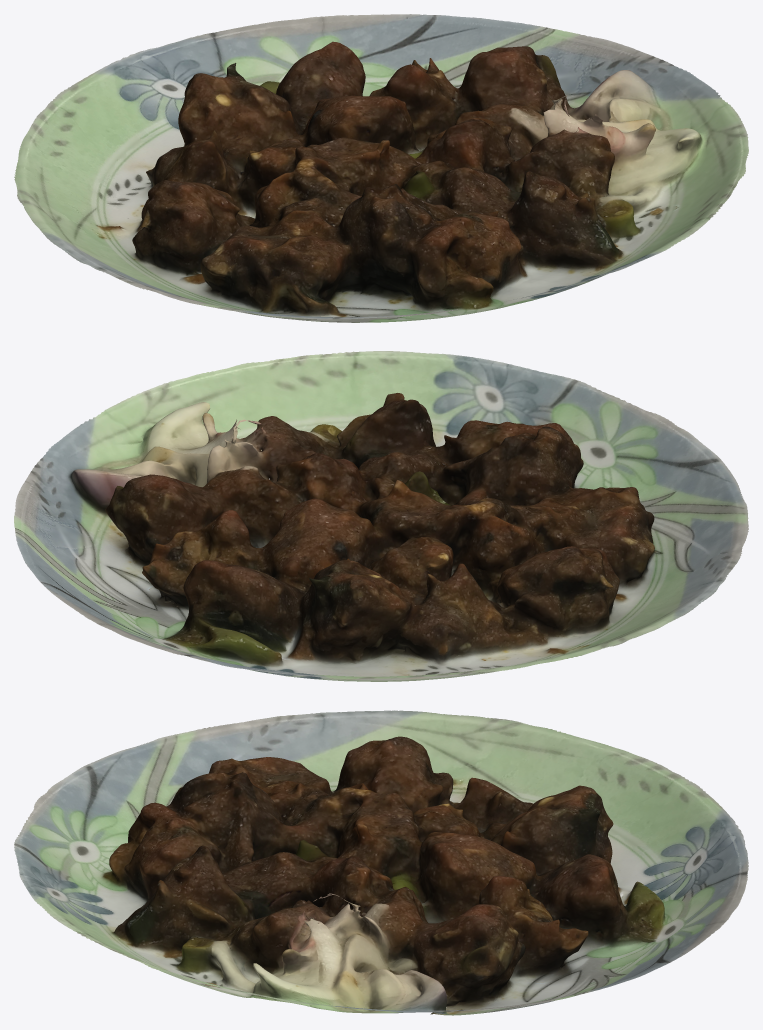
The model's file is attachments.glb.
3 views of the same model, one above another, from view 1: azimuth 30°, elevation 25°; view 2: azimuth 150°, elevation 25°; view 3: azimuth 270°, elevation 25° (orthographic).
Parts seen in each view (by area): view 1: Model; view 2: Model; view 3: Model.
Part boxes in pixels (x1=…): Model: x1=14, y1=14, x2=748, y2=322; Model: x1=14, y1=351, x2=748, y2=681; Model: x1=14, y1=710, x2=748, y2=1015.
Bounding box in the file's own units: 13.23 × 1.93 × 13.14.
1 material, 1 textured.
